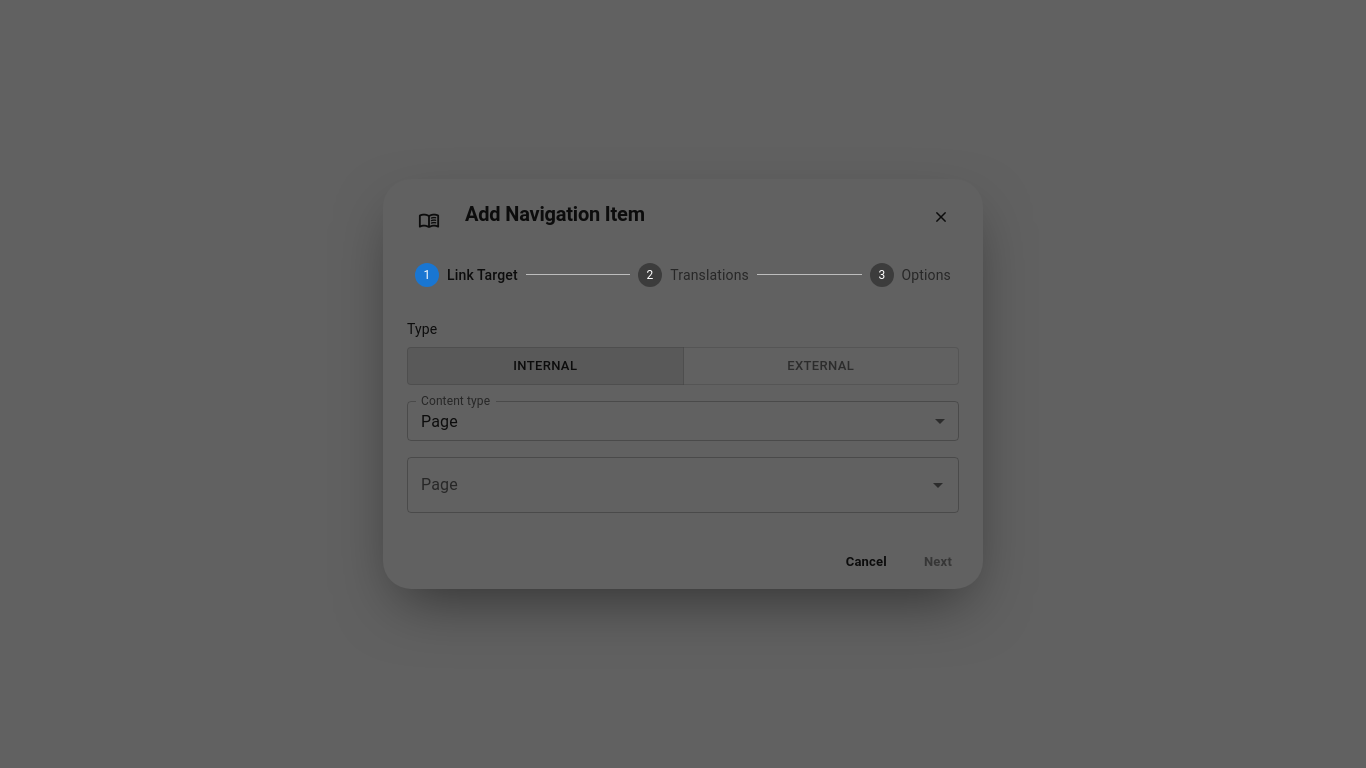
Test case: NavigationItemWizard › hides tab bar when only one locale exists
Click the 2nd dropdown labelled "Page". click: (668, 485)
box: [416, 466, 920, 504]
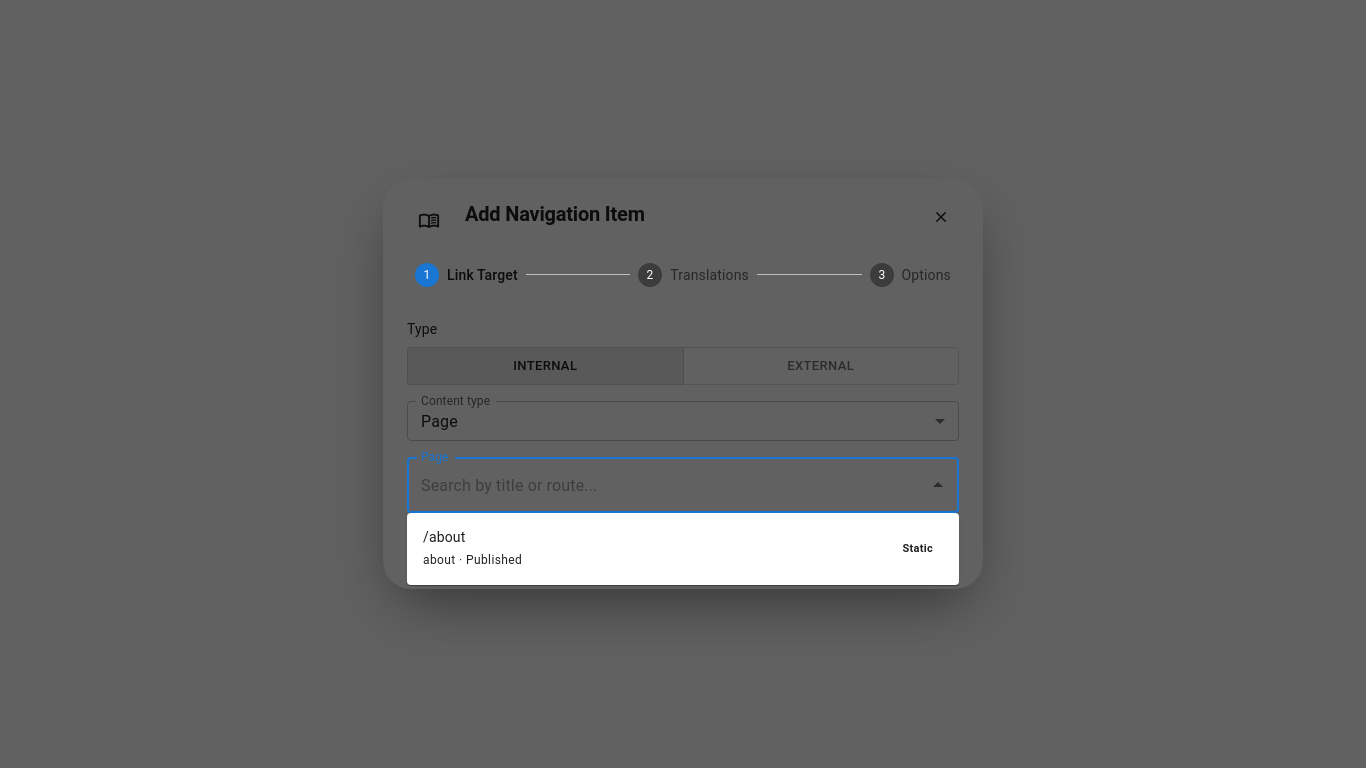
Check: the text "/about" is shown
Click the text "/about". click: (444, 537)
box: [423, 529, 465, 545]
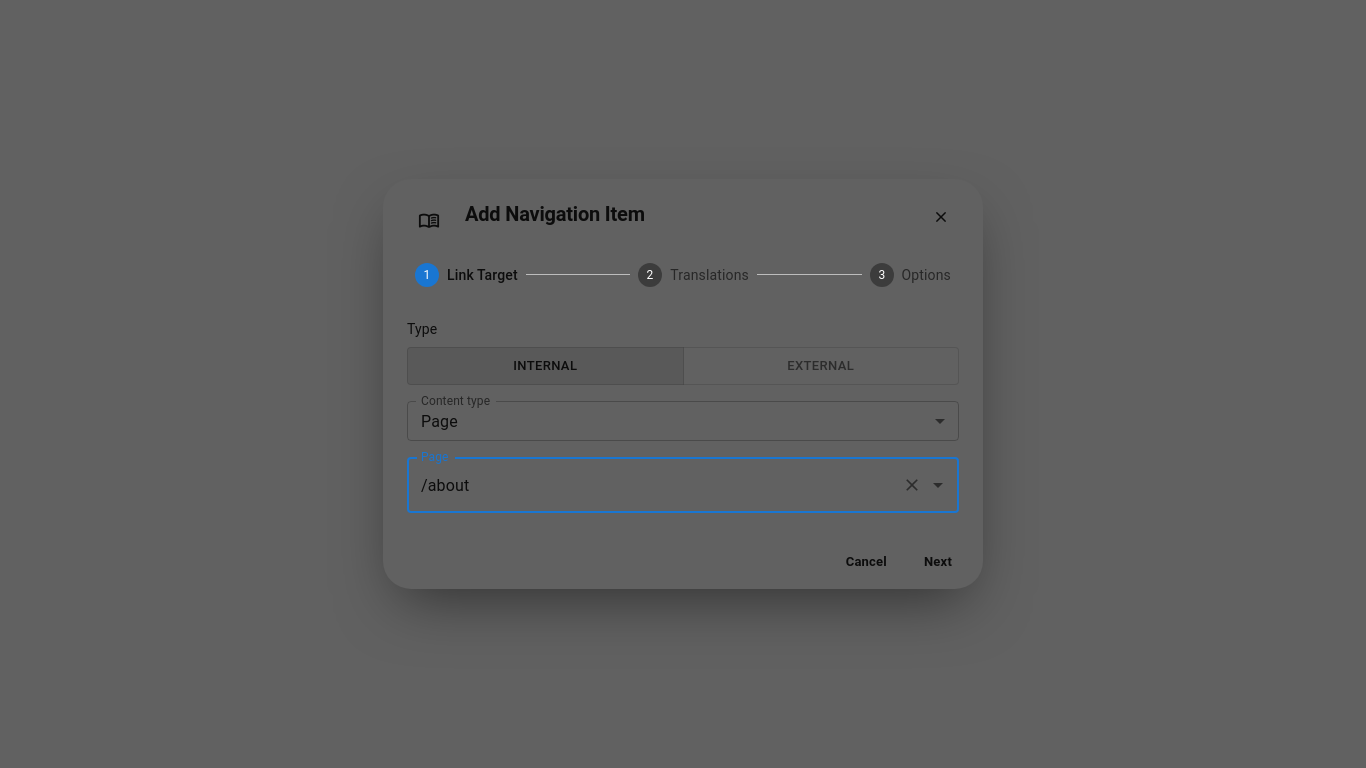
Check: the button with test id "navigation-wizard.btn.next" is enabled
Click the button with test id "navigation-wizard.btn.next". click: (938, 561)
box: [909, 545, 967, 577]
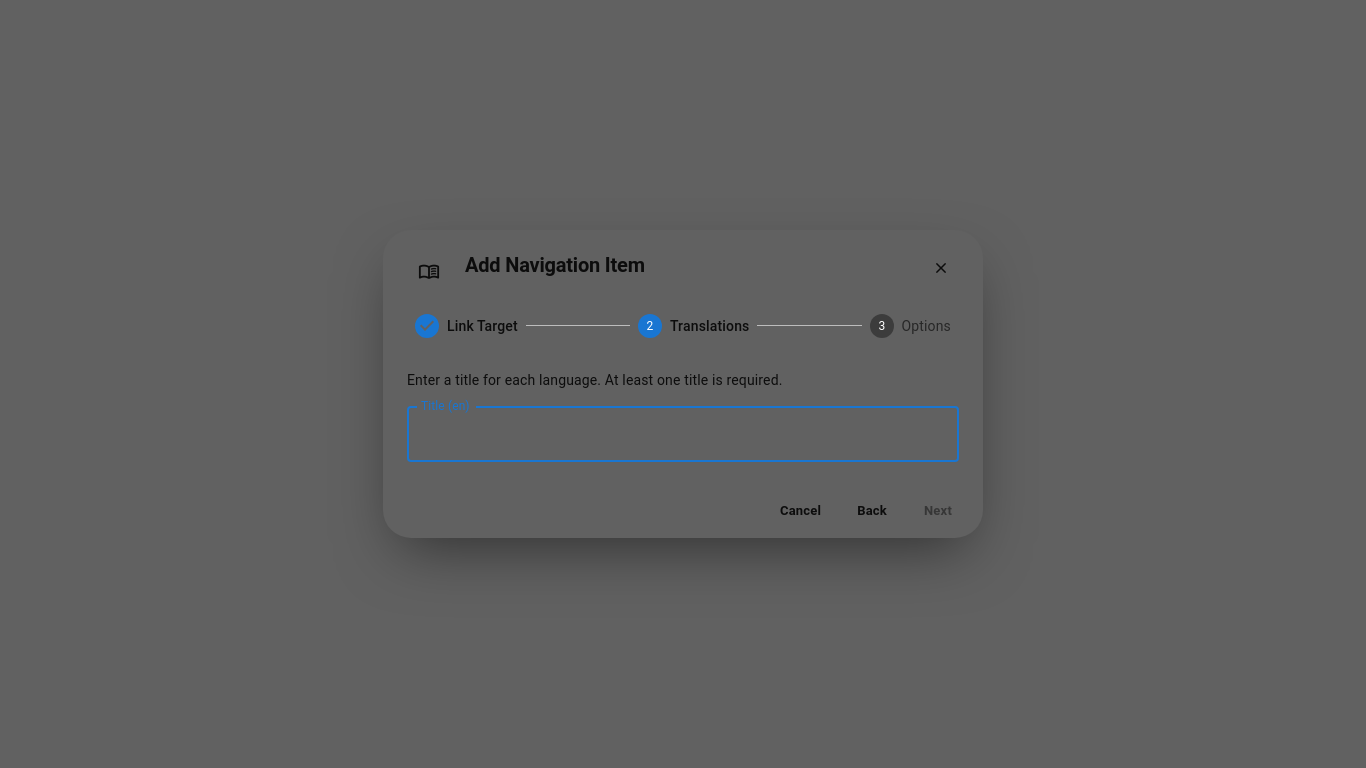
Check: the field labelled "Title (en)" is shown, box [407, 406, 959, 462]
